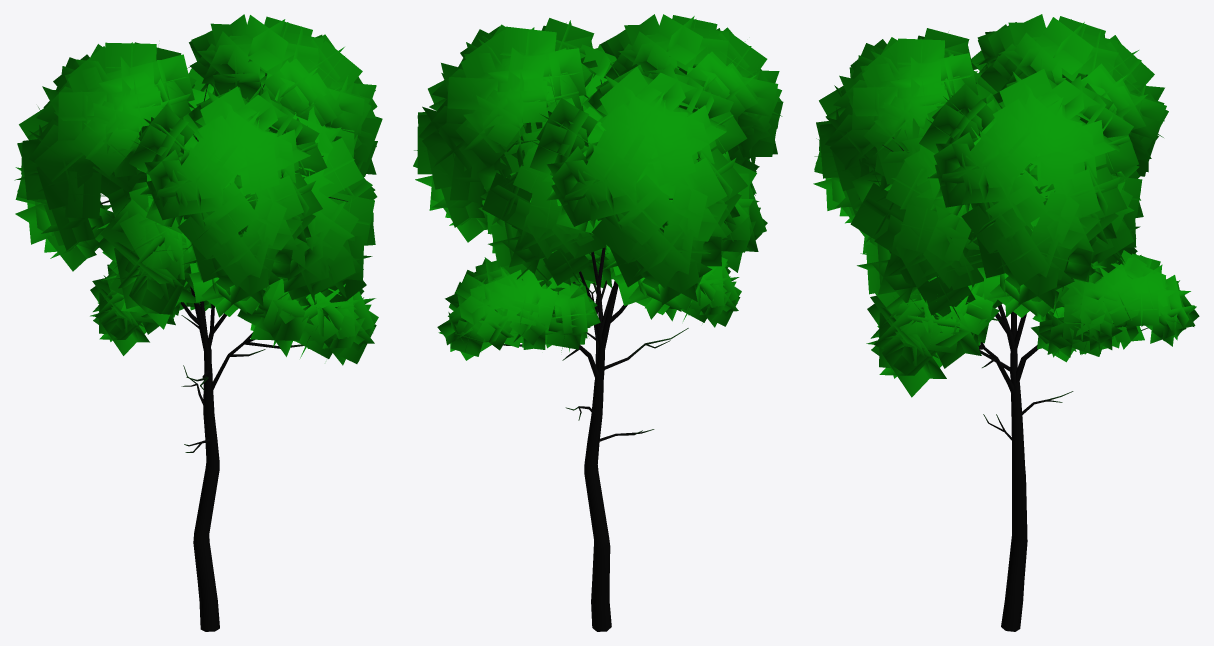
The model's file is IL3DN_Tree_Birch_01_OneMesh.FBX.
3 renders of one model, left to right at view 1: azimuth 30°, elevation 25°; view 2: azimuth 150°, elevation 25°; view 3: azimuth 270°, elevation 25°, orthographic.
Parts seen in each view (by area): view 1: IL3DN_Tree_Birch_01_LOD0; view 2: IL3DN_Tree_Birch_01_LOD0; view 3: IL3DN_Tree_Birch_01_LOD0.
Boxes of the visible parts, x1=… form: IL3DN_Tree_Birch_01_LOD0: x1=14, y1=14, x2=382, y2=631; IL3DN_Tree_Birch_01_LOD0: x1=413, y1=14, x2=783, y2=631; IL3DN_Tree_Birch_01_LOD0: x1=813, y1=14, x2=1199, y2=631.
Size of what is drawn, in the model's own units: 118 by 204 by 122.
